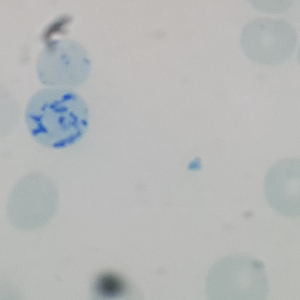aggregate reticulocyte: (22, 86, 92, 150)
erythrocyte: (3, 172, 60, 234), (238, 16, 299, 68)
punctate reticulocyte: (32, 37, 93, 90)
